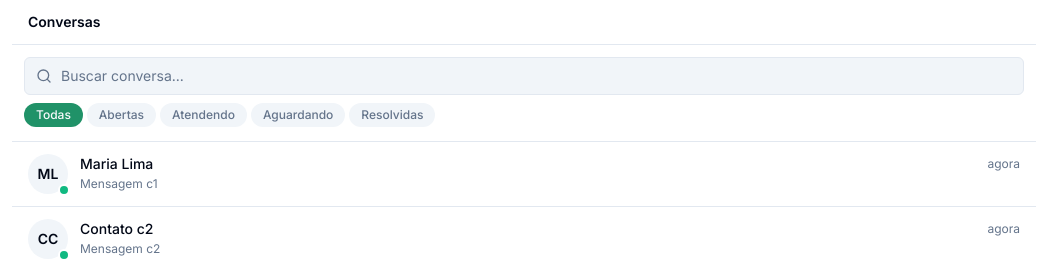
Test: ConversationList › filtra conversas por busca (nome)
Type "maria" into the field with test id "search-input" at point(524, 76), box top-left (24, 57), bottom-right (1024, 95)
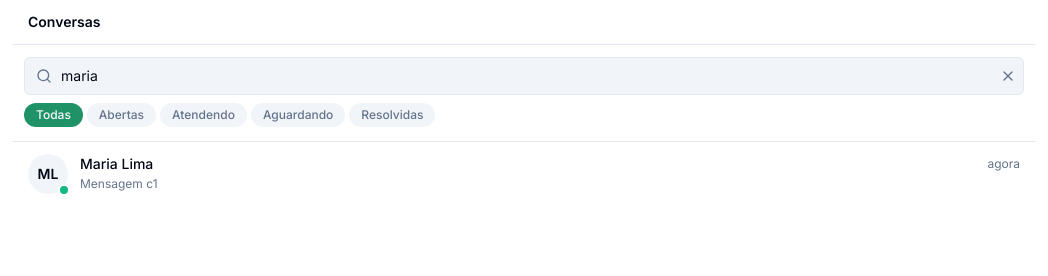
Expected: the text "Maria Lima" is shown, top-left (80, 154), bottom-right (153, 174)
Result: the number of buttons with test id "conversation-item" is 1 at top-left (12, 142), bottom-right (1036, 206)
